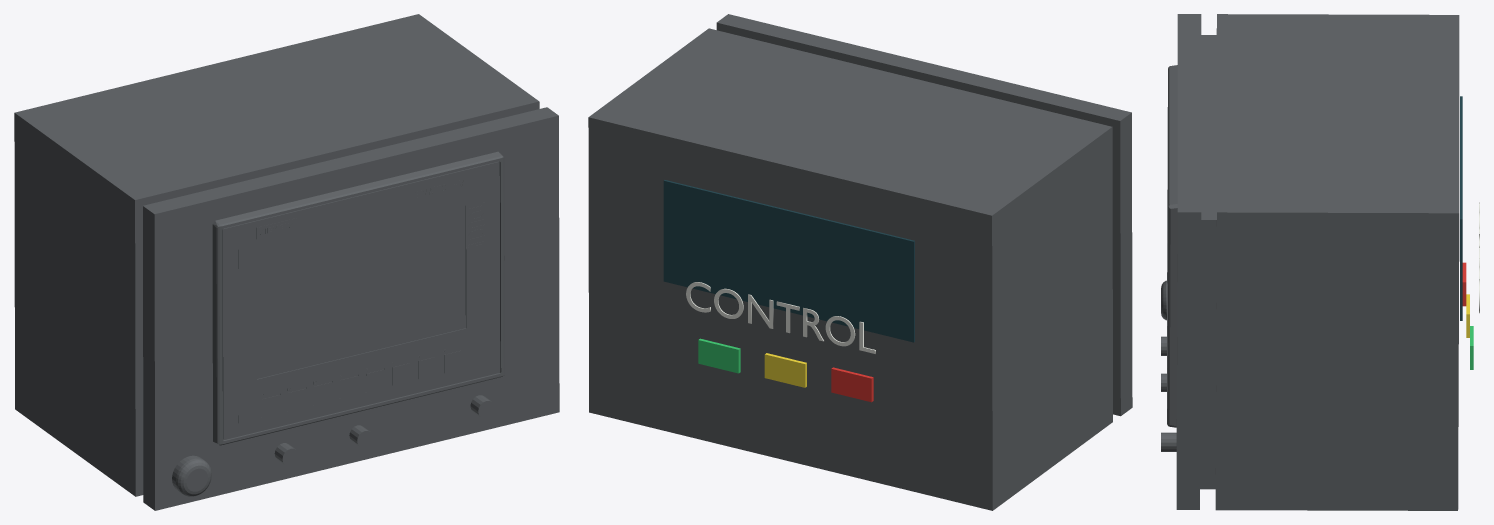
The model's file is ControlPanel.dae.
The picture shows the model from 3 angles, left to right: view 1: azimuth 30°, elevation 25°; view 2: azimuth 150°, elevation 25°; view 3: azimuth 270°, elevation 25°; orthographic projection.
Parts seen in each view (by area): view 1: control panel C; view 2: control panel C, control_panel_screen, control_panel_text, control_panel_button_1, control_panel_button_2, control_panel_button_0; view 3: control panel C, control_panel_screen.
Part boxes in pixels (x1=…): control panel C: x1=14, y1=14, x2=559, y2=510; control panel C: x1=588, y1=14, x2=1132, y2=510; control_panel_screen: x1=663, y1=180, x2=914, y2=342; control_panel_text: x1=686, y1=282, x2=875, y2=353; control_panel_button_1: x1=764, y1=353, x2=806, y2=387; control_panel_button_2: x1=698, y1=338, x2=740, y2=373; control_panel_button_0: x1=831, y1=367, x2=873, y2=402; control panel C: x1=1161, y1=14, x2=1459, y2=510; control_panel_screen: x1=1460, y1=96, x2=1462, y2=320.
Bounding box in the file's own units: 0.744 × 0.5057 × 0.5225.
